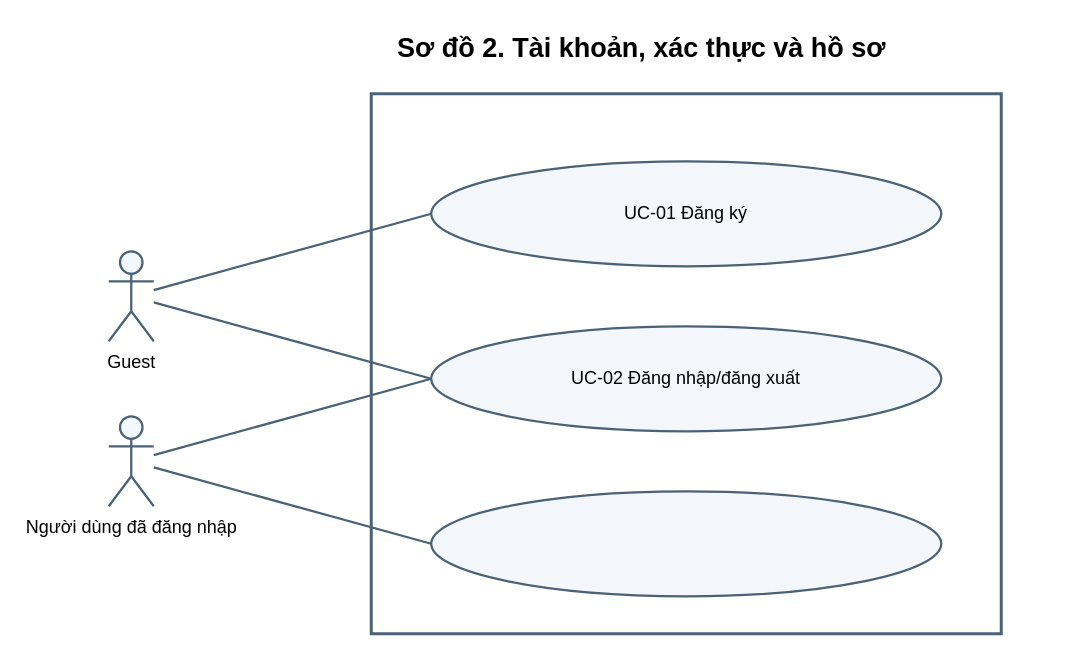
The diagram is 1088 pixels wide and 660 high, and some of its shapes have lost their labels. Each missing label, with the box of its shape:
LivingDocs: (369, 92, 1002, 634)
UC-03 Quản lý hồ sơ & tùy chọn thông báo: (429, 489, 942, 597)
